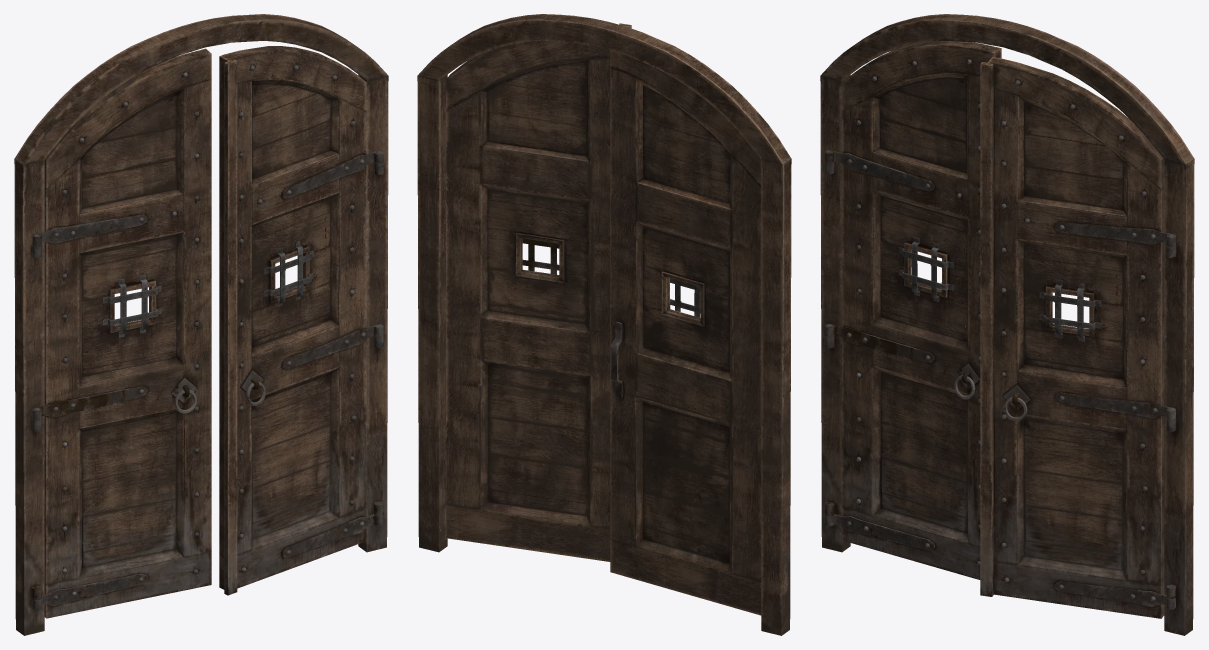
The model's file is large_castle_door.glb.
3 views of the same model, side by side, from view 1: azimuth 30°, elevation 25°; view 2: azimuth 150°, elevation 25°; view 3: azimuth 330°, elevation 25° (orthographic).
Parts seen in each view (by area): view 1: large_castle_door_frame; view 2: large_castle_door_frame; view 3: large_castle_door_frame.
Boxes of the visible parts, x1,y1,x2,y2 form: large_castle_door_frame: (14, 14, 388, 635); large_castle_door_frame: (417, 14, 791, 635); large_castle_door_frame: (820, 14, 1194, 635).
Size of the model in its own units: 2.01 by 2.96 by 0.2964.
Materials: 1 (1 with a texture image).
